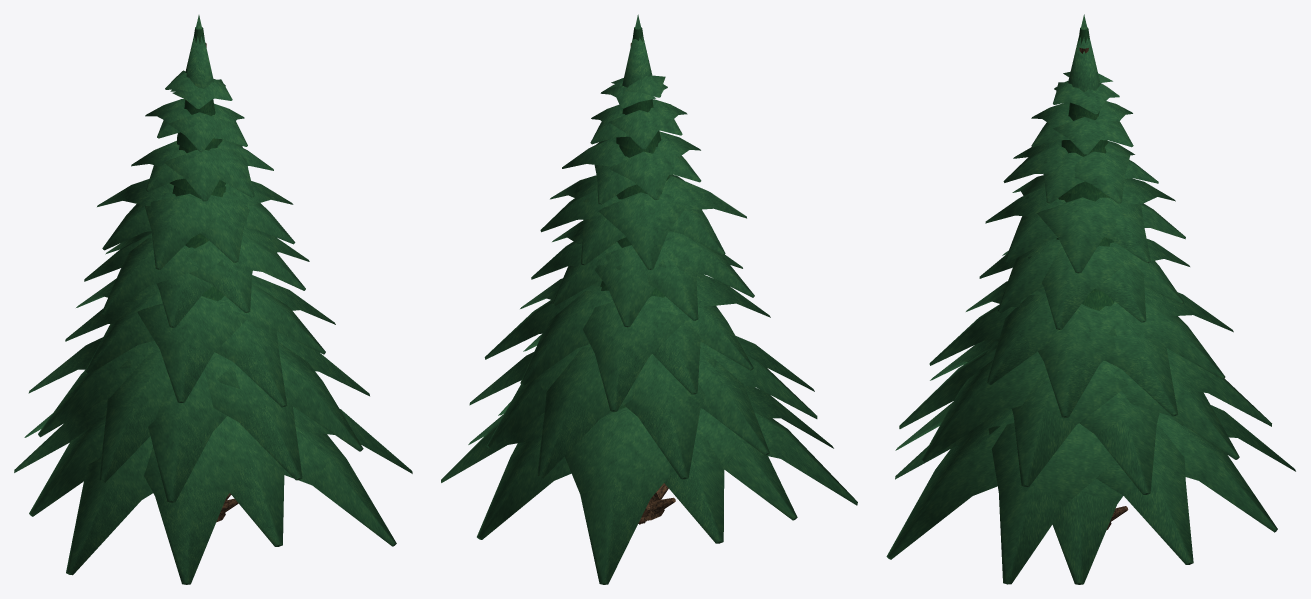
Rendered from pine.gltf.
3 renders of one model, left to right at view 1: azimuth 30°, elevation 25°; view 2: azimuth 150°, elevation 25°; view 3: azimuth 270°, elevation 25°, orthographic. The views are drawn at different scales.
Visible parts, largest first — view 1: PineMesh; view 2: PineMesh; view 3: PineMesh.
Boxes of the visible parts, left/top/right/bottom form: PineMesh: left=14, top=15, right=412, bottom=584; PineMesh: left=441, top=14, right=857, bottom=584; PineMesh: left=886, top=14, right=1295, bottom=584.
Bounding box in the file's own units: 3.94 × 5.44 × 3.88.
3 materials, 3 textured.
